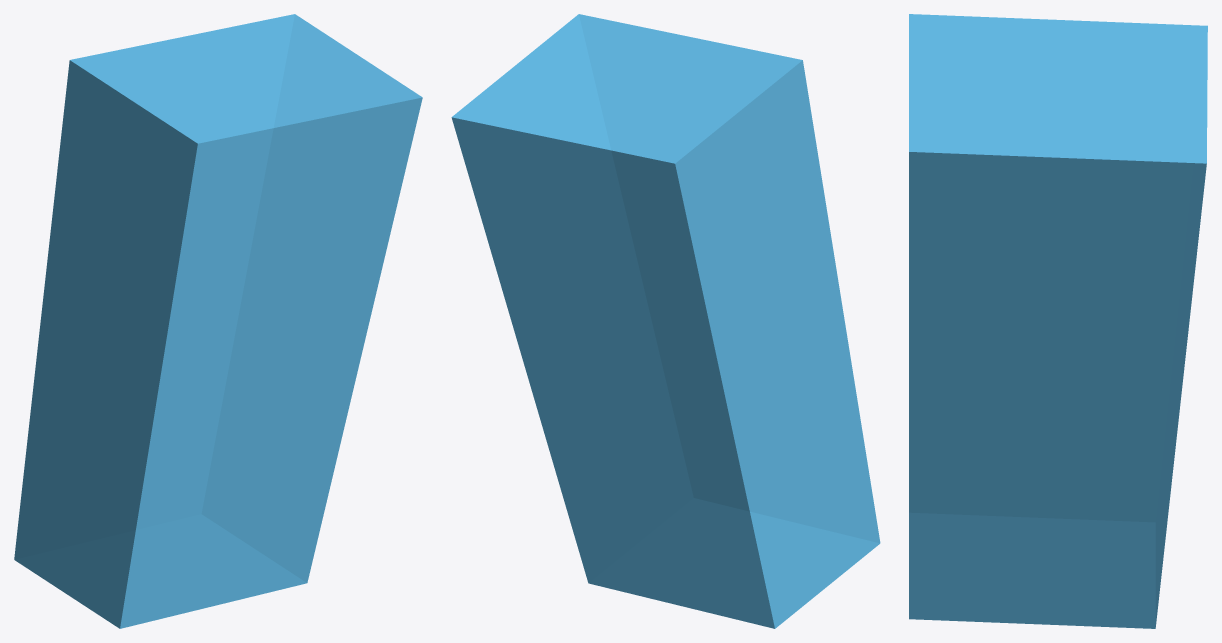
Rendered from Event_421127236_HBrechit_20.fbx.
3 views of the same model, side by side, from view 1: azimuth 30°, elevation 25°; view 2: azimuth 150°, elevation 25°; view 3: azimuth 270°, elevation 25° (orthographic). The views are drawn at different scales.
Parts seen in each view (by area): view 1: Model; view 2: Model; view 3: Model.
Boxes of the visible parts, <box> form: Model: <box>14,14,422,628</box>; Model: <box>451,14,880,628</box>; Model: <box>909,14,1207,628</box>.
Bounding box in the file's own units: 0.6629 × 0.9928 × 0.4863.
